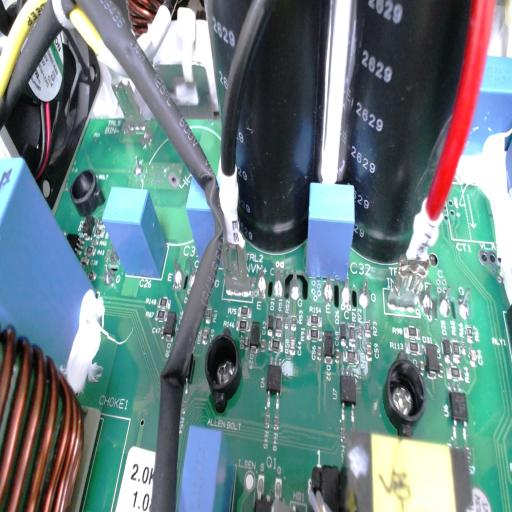pin_group: (320, 259, 373, 316), (418, 279, 476, 327), (252, 260, 306, 306), (166, 242, 201, 298)
solder_ball: (439, 284, 454, 324), (169, 254, 186, 288), (254, 266, 270, 298), (458, 288, 473, 320), (339, 274, 353, 306), (186, 255, 198, 291), (422, 282, 434, 318), (286, 272, 300, 302), (358, 278, 370, 311), (323, 271, 335, 302), (272, 270, 285, 298)
